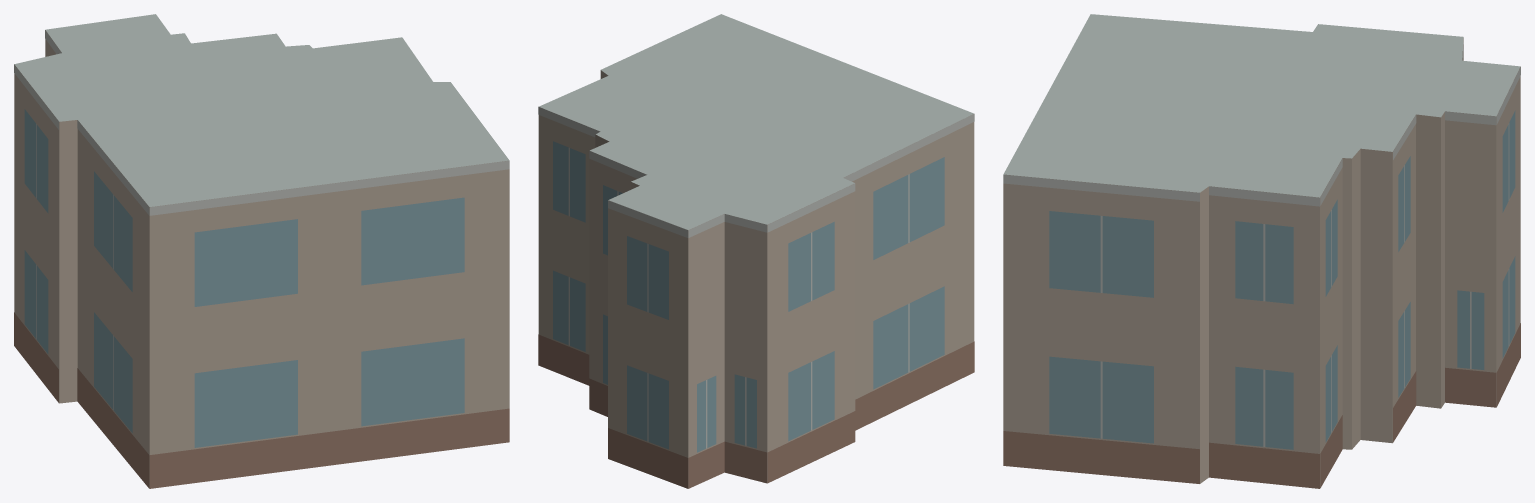
File: survey-upis-32493945.glb
3 renders of one model, left to right at view 1: azimuth 30°, elevation 25°; view 2: azimuth 150°, elevation 25°; view 3: azimuth 270°, elevation 25°, orthographic. The views are drawn at different scales.
Visible parts, largest first — view 1: survey-upis-32493945.tmp; view 2: survey-upis-32493945.tmp; view 3: survey-upis-32493945.tmp.
Boxes of the visible parts, left/top/right/bottom form: survey-upis-32493945.tmp: left=14, top=14, right=509, bottom=488; survey-upis-32493945.tmp: left=538, top=14, right=974, bottom=488; survey-upis-32493945.tmp: left=1003, top=14, right=1520, bottom=488.
Bounding box in the file's own units: 10.62 × 7.85 × 12.65.
